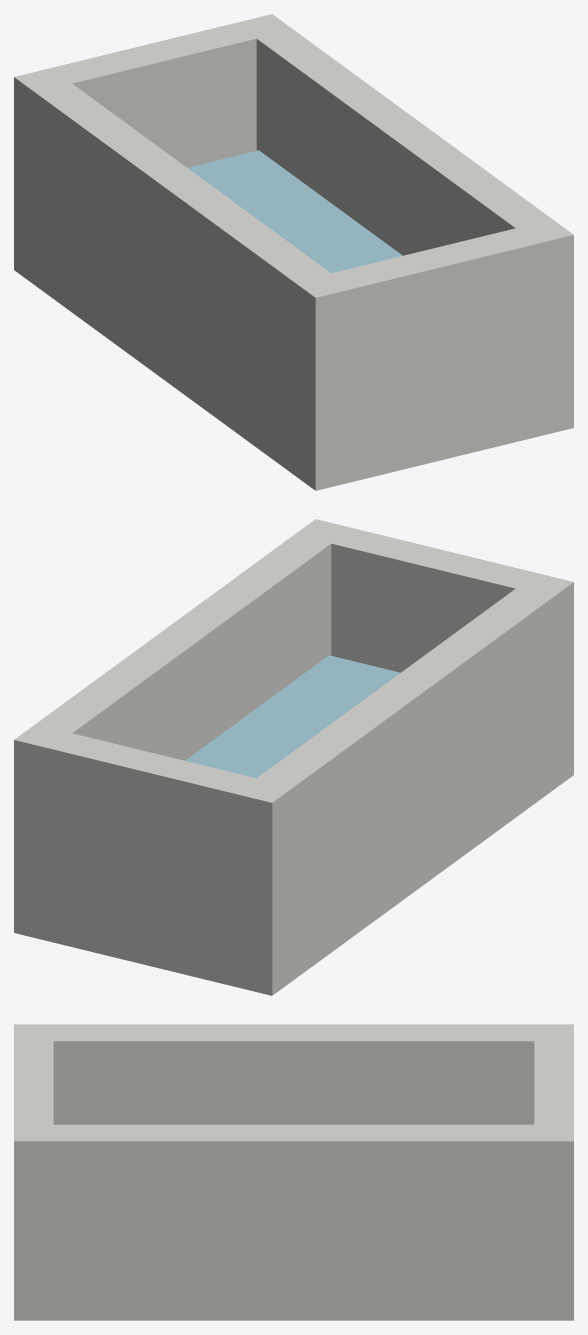
3 views of the same model, one above another, from view 1: azimuth 30°, elevation 25°; view 2: azimuth 150°, elevation 25°; view 3: azimuth 270°, elevation 25° (orthographic). The views are drawn at different scales.
Parts seen in each view (by area): view 1: Side.L, Side.R, End.Front, End.Back, Inner; view 2: Side.L, Side.R, End.Back, End.Front, Inner; view 3: Side.R, Side.L, End.Front, End.Back.
Boxes of the visible parts, x1,y1,x2,y2 form: Side.L: (14,68,352,490); Side.R: (236,14,573,436); End.Front: (332,228,536,481); End.Back: (51,23,256,167); Inner: (187,150,402,273); Side.L: (235,573,573,995); Side.R: (14,519,351,941); End.Back: (51,733,255,986); End.Front: (331,528,536,672); Inner: (185,655,400,778); Side.R: (14,1124,573,1320); Side.L: (14,1024,573,1124); End.Front: (14,1041,53,1124); End.Back: (534,1041,573,1124).
Bounding box in the file's own units: 0.84 × 0.6 × 1.7.
